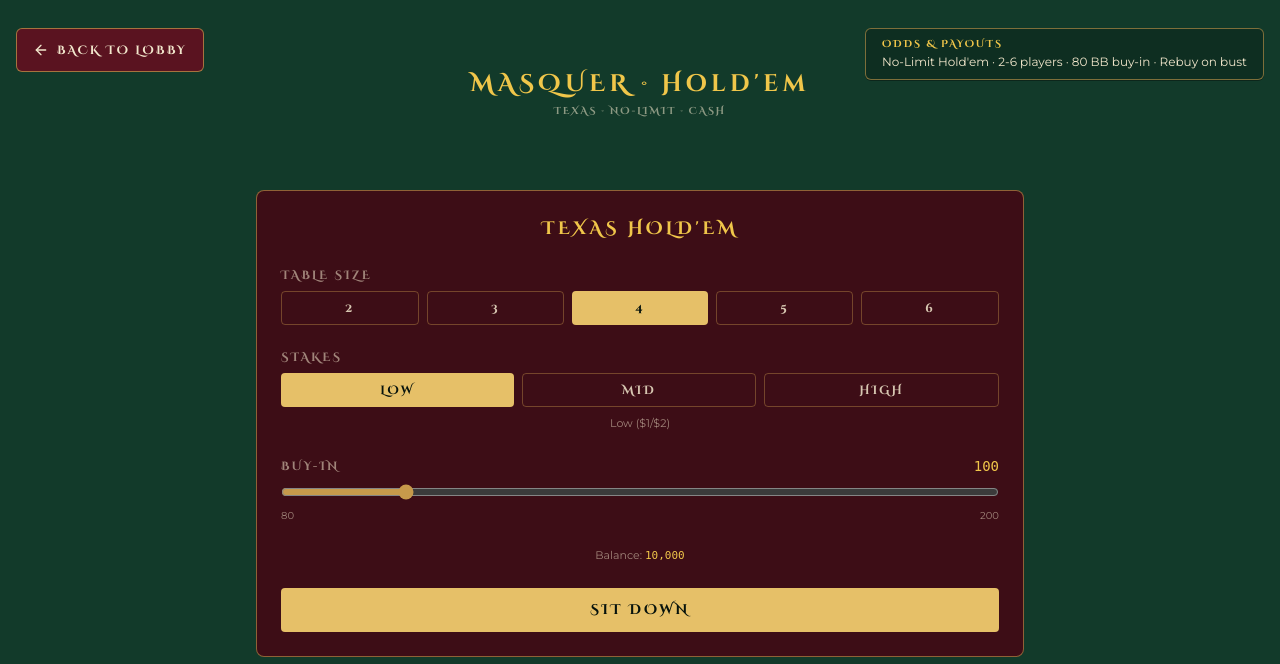
Scenario: HoldemPage — between-hands grace › shows outcome banner + 15s countdown bar after the hand completes
Click the button "2".
click(350, 308)  # box [281, 291, 419, 325]
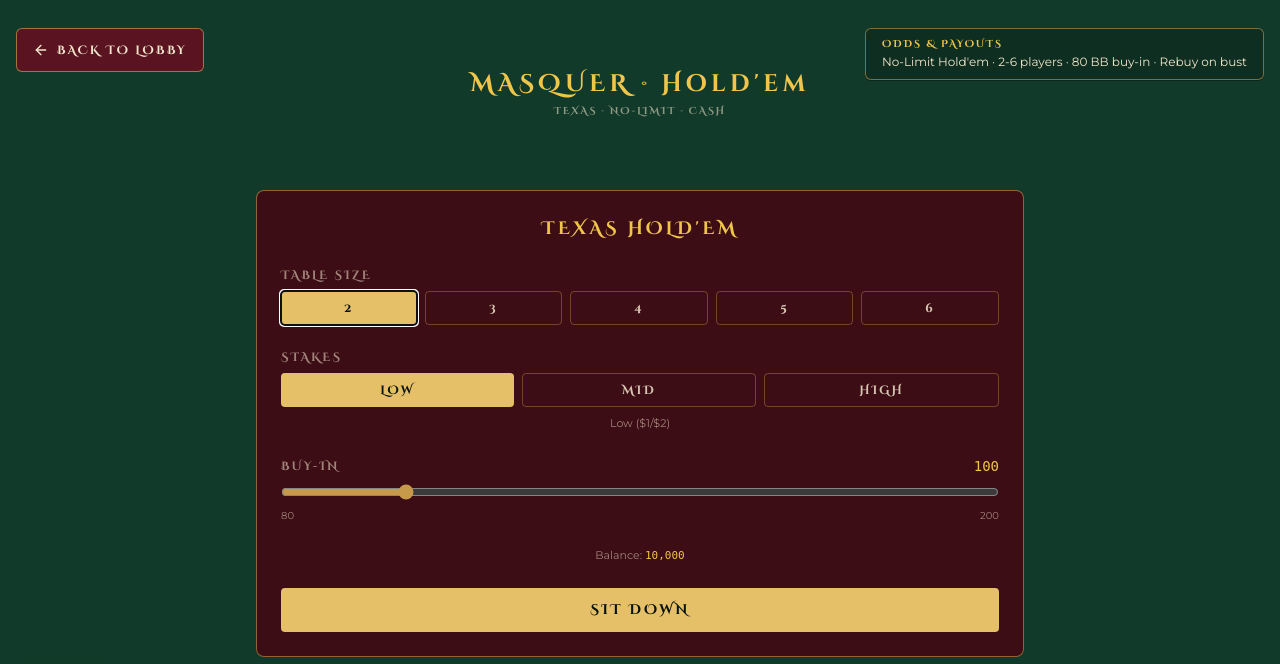
Click the button "SIT DOWN".
click(640, 610)  # box [281, 588, 999, 632]
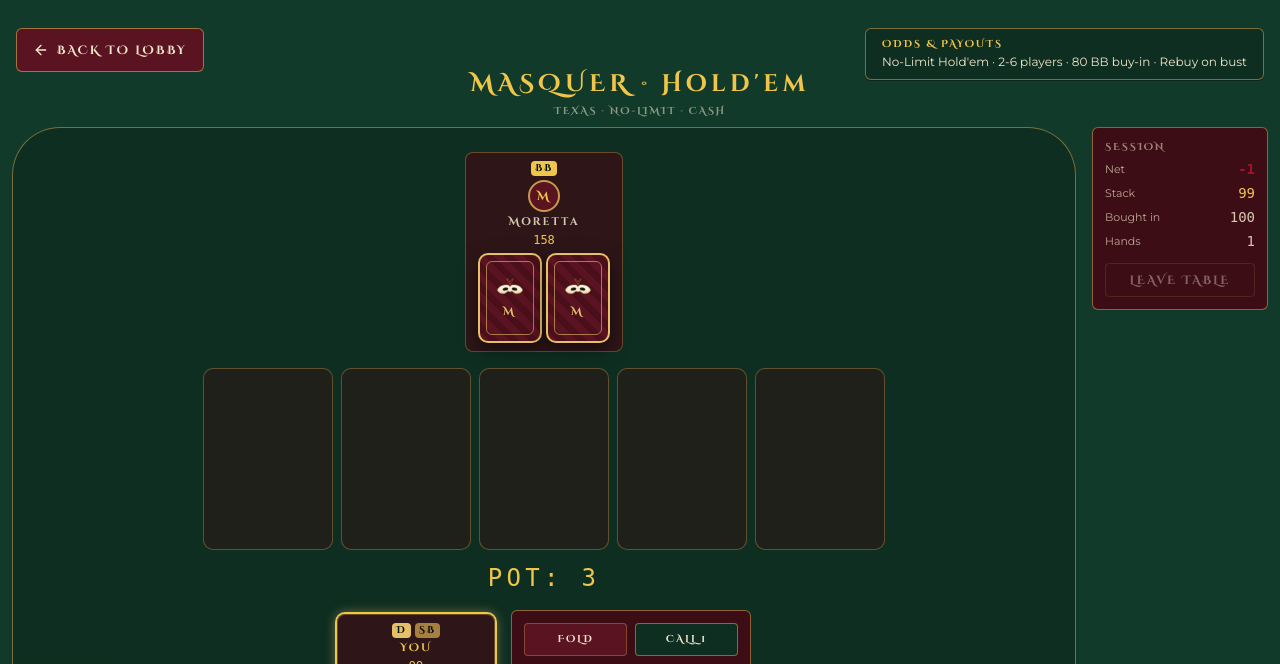
Check: the button "LEAVE TABLE" is shown, box [1105, 263, 1255, 297]
Check: the button "FOLD" is shown
Check: the button "FOLD" is enabled
Click the button "FOLD".
click(576, 640)  # box [524, 623, 627, 656]
(page scrolled)
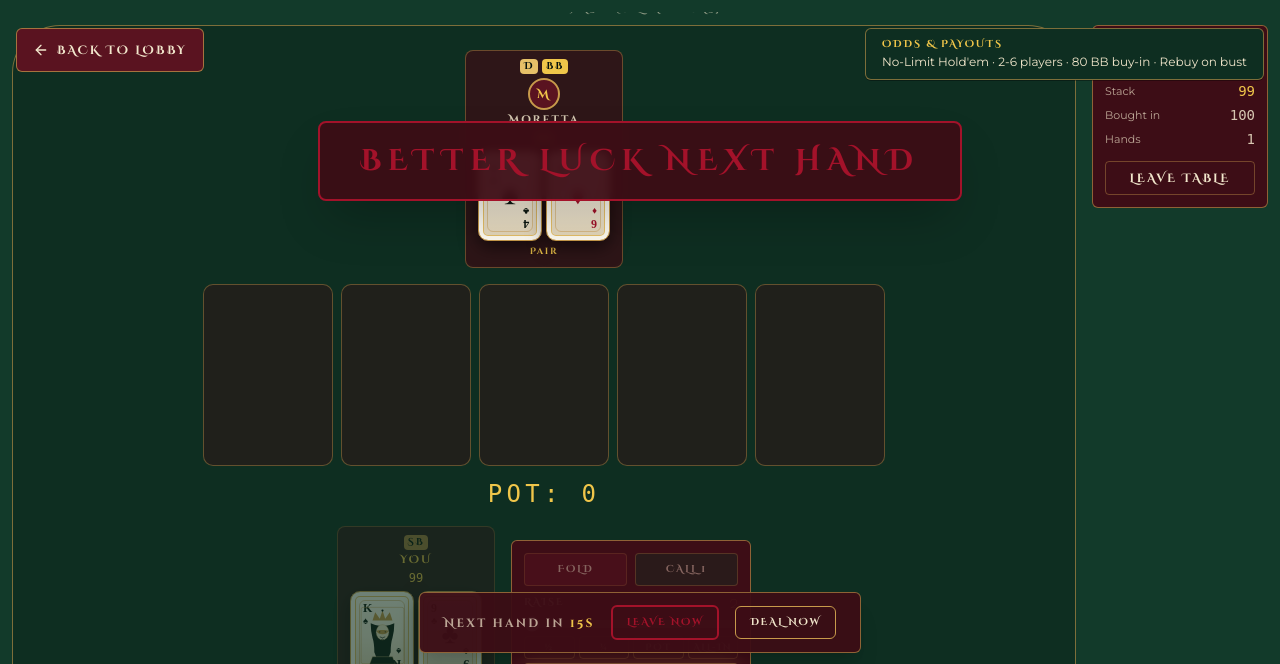
Check: the element showing "Next hand in 15s LEAVE NOW DEAL NOW" is shown, box [419, 592, 861, 653]
Check: the element showing "BETTER LUCK NEXT HAND" is shown, box [318, 121, 962, 201]
Check: the text "15s" is shown, box [570, 614, 595, 630]
